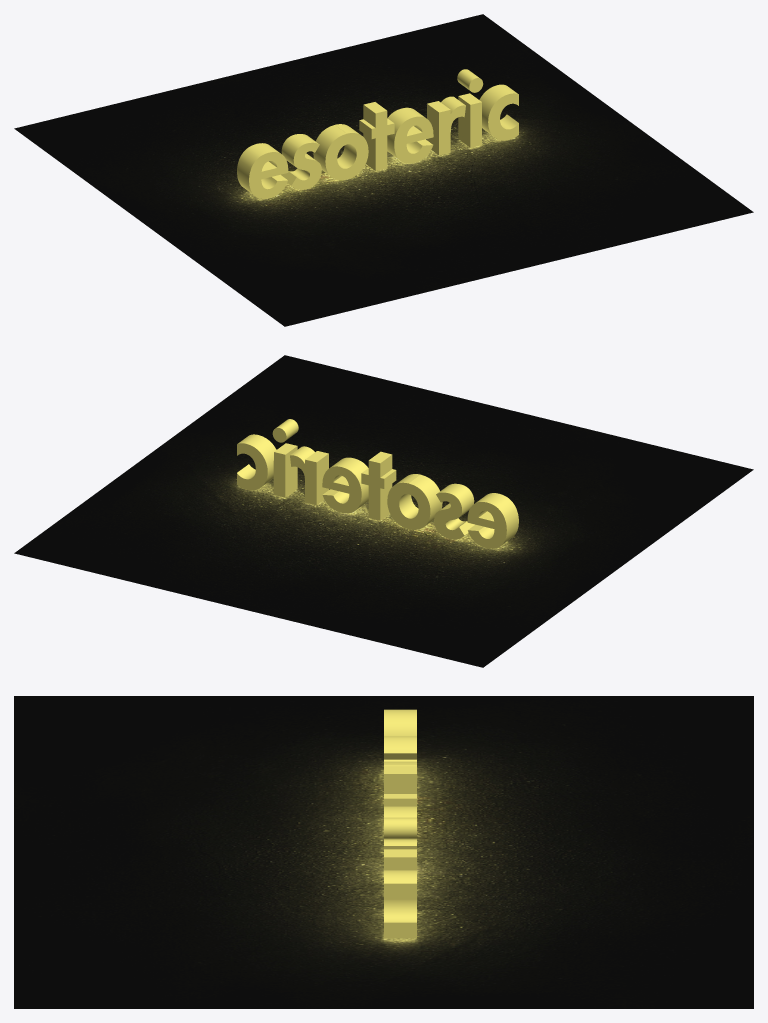
Rendered from preloader.dae.
The picture shows the model from 3 angles, top to bottom: view 1: azimuth 30°, elevation 25°; view 2: azimuth 150°, elevation 25°; view 3: azimuth 270°, elevation 25°; orthographic projection. The views are drawn at different scales.
Parts seen in each view (by area): view 1: concrete, logo.1; view 2: concrete, logo.1; view 3: concrete, logo.1.
Part boxes in pixels (x1,y1,x2,y2): concrete: (14, 14, 753, 326); logo.1: (237, 69, 518, 198); concrete: (14, 355, 753, 667); logo.1: (237, 419, 518, 548); concrete: (14, 696, 753, 1008); logo.1: (384, 709, 416, 938).
Size of the model in its own units: 1120 by 159 by 1120.
